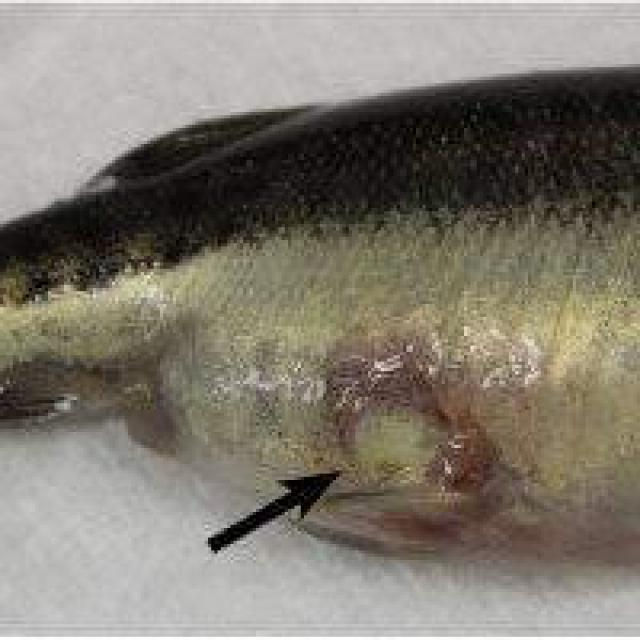EUS Disease: (2, 66, 640, 556), (230, 358, 570, 553)
